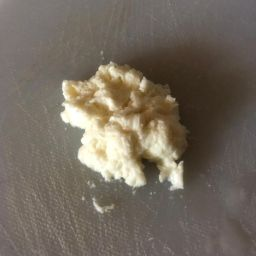Crumbled Feta: (42, 56, 198, 220), (71, 96, 174, 195), (111, 68, 190, 195), (49, 69, 122, 170), (82, 86, 154, 181)
